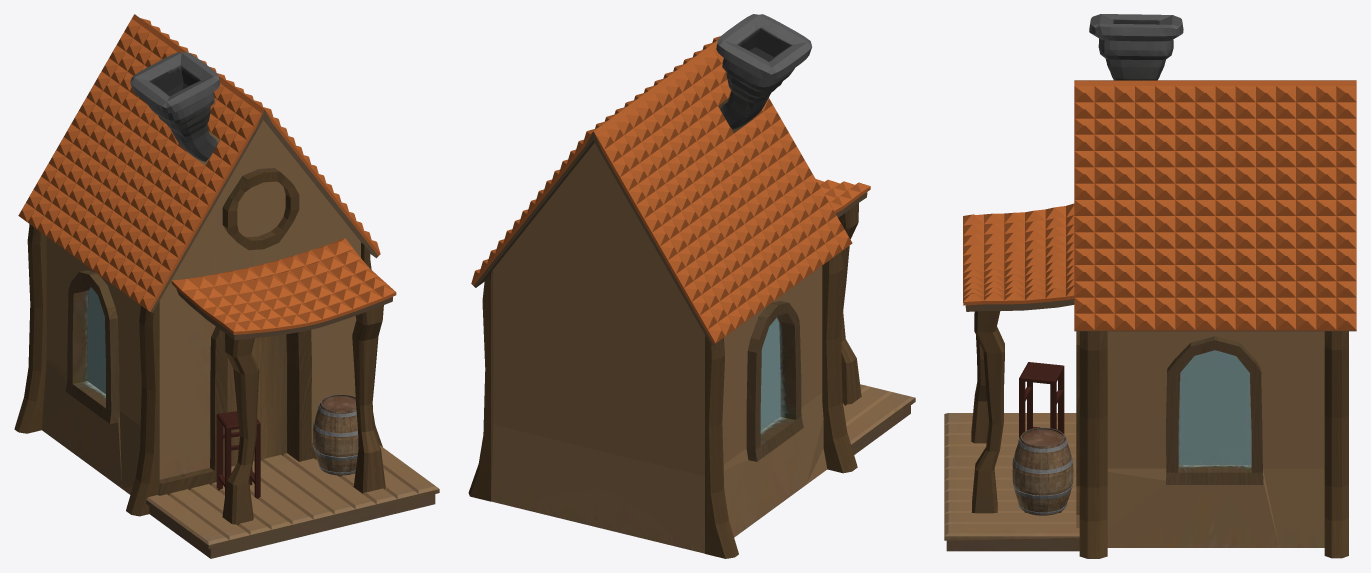
3 views of the same model, side by side, from view 1: azimuth 30°, elevation 25°; view 2: azimuth 150°, elevation 25°; view 3: azimuth 270°, elevation 25° (orthographic). The views are drawn at different scales.
Parts seen in each view (by area): view 1: slot_anchor_house, slot_roof, slot_porch_canopy, slot_add01_a_wooden_barrel_wi, slot_add02_a_wooden_park_benc; view 2: slot_anchor_house, slot_roof, slot_porch_canopy; view 3: slot_roof, slot_anchor_house, slot_porch_canopy, slot_add01_a_wooden_barrel_wi, slot_add02_a_wooden_park_benc.
Part boxes in pixels (<box>): slot_anchor_house: <box>14,120,439,558</box>; slot_roof: <box>18,14,380,312</box>; slot_porch_canopy: <box>171,238,396,340</box>; slot_add01_a_wooden_barrel_wi: <box>313,394,358,476</box>; slot_add02_a_wooden_park_benc: <box>216,411,260,498</box>; slot_anchor_house: <box>468,97,915,558</box>; slot_roof: <box>471,14,852,345</box>; slot_porch_canopy: <box>816,179,870,217</box>; slot_roof: <box>1074,14,1356,331</box>; slot_anchor_house: <box>944,311,1348,558</box>; slot_porch_canopy: <box>963,203,1074,311</box>; slot_add01_a_wooden_barrel_wi: <box>1012,427,1073,515</box>; slot_add02_a_wooden_park_benc: <box>1019,362,1064,438</box>.
Bounding box in the file's own units: 0.7265 × 1.13 × 0.9419.
3 materials, 3 textured.
